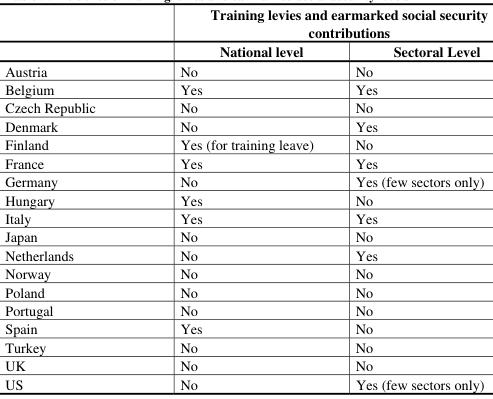table: (4, 3, 487, 392)
table column: (137, 3, 333, 392), (333, 3, 487, 392), (4, 3, 137, 392)
table column header: (4, 3, 487, 60)
table row: (4, 3, 487, 41), (4, 41, 487, 60), (4, 60, 487, 79), (4, 97, 487, 116), (4, 134, 487, 153), (4, 189, 487, 208), (4, 226, 487, 245), (4, 281, 487, 300), (4, 318, 487, 337), (4, 373, 487, 392), (4, 79, 487, 97), (4, 116, 487, 134), (4, 153, 487, 171), (4, 171, 487, 189), (4, 208, 487, 226), (4, 245, 487, 263), (4, 263, 487, 281), (4, 300, 487, 318), (4, 337, 487, 355), (4, 355, 487, 373)
table spanning cell: (137, 3, 487, 41)
